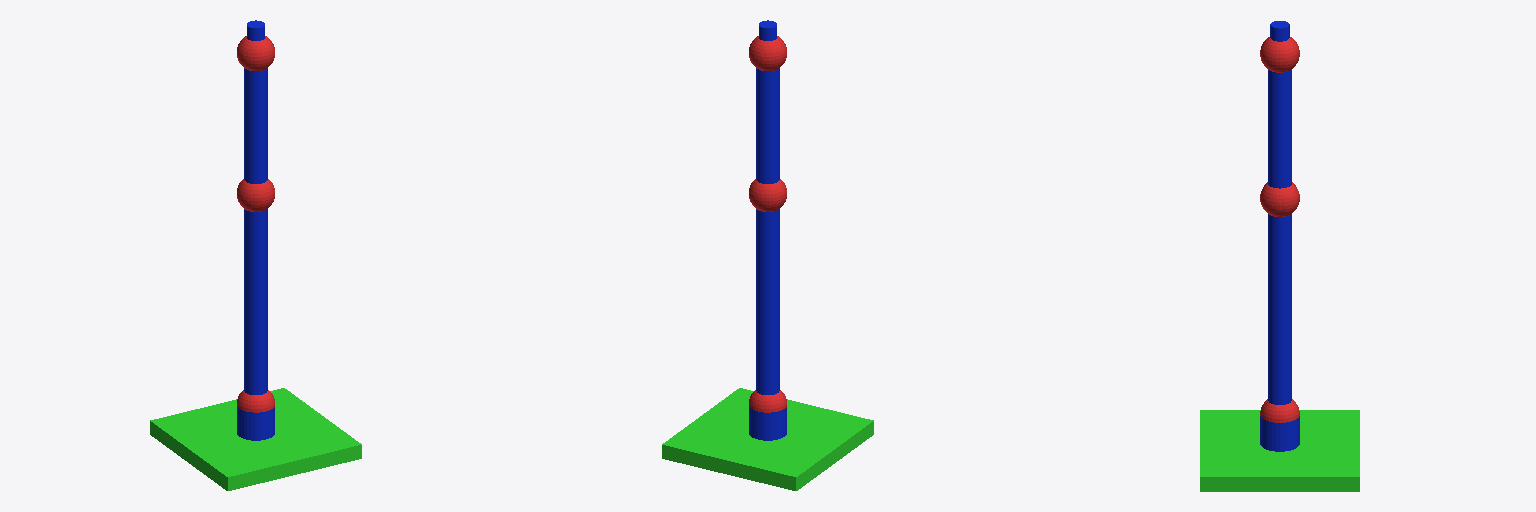
robot.urdf — simple_arm:
<?xml version="1.0"?>
<robot name="simple_arm">
<!-- Sensowny model ramienia -->
    <!-- BAZA: 200 x 200 x 20 mm -->
    <link name="baza">
        <visual>
            <origin xyz="0 0 0"/>
            <geometry>
                <box size="0.2 0.2 0.02"/>
            </geometry>
            <material name="green">
                <color rgba="0.23 0.875 0.23 1"/>
            </material>
        </visual>
        <collision>
            <origin xyz="0 0 0"/>
            <geometry>
                <box size="0.2 0.2 0.02"/>
            </geometry>
        </collision>
        <inertial>
            <origin xyz="0 0 0"/>
            <mass value="5"/>
            <inertia ixx="0.0167" ixy="0" ixz="0"
                     iyy="0.0167" iyz="0" izz="0.0333"/>
        </inertial>
    </link>

    <!-- CYLINDER 0: PRZEGUB OBROTOWY PODSTAWY -->
    <!-- Cylinder ustawiony pionowo, długość 40 mm -->
    <link name="cylinder_base">
        <visual>
            <origin xyz="0 0 0"/>
            <geometry>
                <cylinder radius="0.025" length="0.04"/>
            </geometry>
            <material name="blue">
                <color rgba="0.1 0.23 0.875 1"/>
            </material>
        </visual>
        <collision>
            <origin xyz="0 0 0"/>
            <geometry>
                <cylinder radius="0.025" length="0.04"/>
            </geometry>
        </collision>
        <inertial>
            <origin xyz="0 0 0"/>
            <mass value="0.3"/>
            <inertia ixx="0.0001" ixy="0" ixz="0"
                     iyy="0.0001" iyz="0" izz="0.000094"/>
        </inertial>
    </link>

    <!-- SFERA 1: PRZEGUB BARKOWY -->
    <link name="sfera1">
        <visual>
            <geometry>
                <sphere radius="0.025"/>
            </geometry>
            <material name="red">
                <color rgba="0.875 0.23 0.23 1"/>
            </material>
        </visual>
        <collision>
            <geometry>
                <sphere radius="0.025"/>
            </geometry>
        </collision>
        <inertial>
            <origin xyz="0 0 0"/>
            <mass value="0.2"/>
            <inertia ixx="0.00005" ixy="0" ixz="0"
                     iyy="0.00005" iyz="0" izz="0.00005"/>
        </inertial>
    </link>

    <!-- WALEC 1: RAMIĘ 300 mm -->
    <link name="walec1">
        <visual>
            <origin xyz="0 0 0.15"/>
            <geometry>
                <cylinder radius="0.015" length="0.3"/>
            </geometry>
            <material name="blue">
                <color rgba="0.1 0.23 0.875 1"/>
            </material>
        </visual>
        <collision>
            <origin xyz="0 0 0.15"/>
            <geometry>
                <cylinder radius="0.015" length="0.3"/>
            </geometry>
        </collision>
        <inertial>
            <origin xyz="0 0 0.15"/>
            <mass value="0.5"/>
            <inertia ixx="0.00377" ixy="0" ixz="0"
                     iyy="0.00377" iyz="0" izz="0.0000563"/>
        </inertial>
    </link>

    <!-- SFERA 2: PRZEGUB ŁOKCIOWY -->
    <link name="sfera2">
        <visual>
            <geometry>
                <sphere radius="0.025"/>
            </geometry>
            <material name="red">
                <color rgba="0.875 0.23 0.23 1"/>
            </material>
        </visual>
        <collision>
            <geometry>
                <sphere radius="0.025"/>
            </geometry>
        </collision>
        <inertial>
            <origin xyz="0 0 0"/>
            <mass value="0.2"/>
            <inertia ixx="0.00005" ixy="0" ixz="0"
                     iyy="0.00005" iyz="0" izz="0.00005"/>
        </inertial>
    </link>

    <!-- WALEC 2: RAMIĘ 200 mm -->
    <link name="walec2">
        <visual>
            <origin xyz="0 0 0.1"/>
            <geometry>
                <cylinder radius="0.015" length="0.2"/>
            </geometry>
            <material name="blue">
                <color rgba="0.1 0.23 0.875 1"/>
            </material>
        </visual>
        <collision>
            <origin xyz="0 0 0.1"/>
            <geometry>
                <cylinder radius="0.015" length="0.2"/>
            </geometry>
        </collision>
        <inertial>
            <origin xyz="0 0 0.1"/>
            <mass value="0.35"/>
            <inertia ixx="0.00118" ixy="0" ixz="0"
                     iyy="0.00118" iyz="0" izz="0.0000394"/>
        </inertial>
    </link>

    <!-- SFERA 3: KONIEC RAMIENIA -->
    <link name="sfera3">
        <visual>
            <geometry>
                <sphere radius="0.025"/>
            </geometry>
            <material name="red">
                <color rgba="0.875 0.23 0.23 1"/>
            </material>
        </visual>
        <collision>
            <geometry>
                <sphere radius="0.025"/>
            </geometry>
        </collision>
        <inertial>
            <origin xyz="0 0 0"/>
            <mass value="0.2"/>
            <inertia ixx="0.00005" ixy="0" ixz="0"
                     iyy="0.00005" iyz="0" izz="0.00005"/>
        </inertial>
    </link>

    <!-- WALEC 3: MOCOWANIE EFEKTORA, 40 mm -->
    <link name="walec3">
        <visual>
            <origin xyz="0 0 0.02"/>
            <geometry>
                <cylinder radius="0.012" length="0.04"/>
            </geometry>
            <material name="blue">
                <color rgba="0.1 0.23 0.875 1"/>
            </material>
        </visual>
        <collision>
            <origin xyz="0 0 0.02"/>
            <geometry>
                <cylinder radius="0.012" length="0.04"/>
            </geometry>
        </collision>
        <inertial>
            <origin xyz="0 0 0.02"/>
            <mass value="0.1"/>
            <inertia ixx="0.0000141" ixy="0" ixz="0"
                     iyy="0.0000141" iyz="0" izz="0.0000072"/>
        </inertial>
    </link>

    <!-- POŁĄCZENIA -->

    <!-- Baza -> cylinder -->
    <joint name="baza_cylinder" type="fixed">
        <parent link="baza"/>
        <child link="cylinder_base"/>
        <origin xyz="0 0 0.03" rpy="0 0 0"/>
    </joint>

    <!-- Cylinder -> sfera 1: obrót wokół osi Z -->
    <joint name="cylinder_sfera1" type="revolute">
        <parent link="cylinder_base"/>
        <child link="sfera1"/>
        <origin xyz="0 0 0.02" rpy="0 0 0"/>
        <axis xyz="0 0 1"/>
        <limit lower="-1.4" upper="1.4"
               effort="30" velocity="1.0"/>
    </joint>

    <!-- Bark: obrót wokół osi Y -->
    <joint name="sfera1_walec1" type="revolute">
        <parent link="sfera1"/>
        <child link="walec1"/>
        <origin xyz="0 0 0" rpy="0 0 0"/>
        <axis xyz="0 1 0"/>
        <limit lower="-1.4" upper="1.4"
               effort="30" velocity="1.0"/>
    </joint>

    <!-- Koniec pierwszego ramienia: 300 mm -->
    <joint name="walec1_sfera2" type="fixed">
        <parent link="walec1"/>
        <child link="sfera2"/>
        <origin xyz="0 0 0.3" rpy="0 0 0"/>
    </joint>

    <!-- Łokieć: obrót wokół osi Y -->
    <joint name="sfera2_walec2" type="revolute">
        <parent link="sfera2"/>
        <child link="walec2"/>
        <origin xyz="0 0 0" rpy="0 0 0"/>
        <axis xyz="0 1 0"/>
        <limit lower="-2.0944" upper="0"
               effort="20" velocity="1.0"/>
    </joint>

    <!-- Koniec drugiego ramienia: 200 mm -->
    <joint name="walec2_sfera3" type="fixed">
        <parent link="walec2"/>
        <child link="sfera3"/>
        <origin xyz="0 0 0.2" rpy="0 0 0"/>
    </joint>

    <!-- Mocowanie efektora -->
    <joint name="sfera3_walec3" type="fixed">
        <parent link="sfera3"/>
        <child link="walec3"/>
        <origin xyz="0 0 0" rpy="0 0 0"/>
    </joint>

</robot>

--- Render facts (derived) ---
Views: 3 orthographic renders of the robot side by side, from view 1: azimuth 30°, elevation 25°; view 2: azimuth 150°, elevation 25°; view 3: azimuth 270°, elevation 25°.
Robot: simple_arm — 8 links, 7 joints (3 revolute, 4 fixed); root link baza; default pose: every joint at zero.
Links seen in each view (by area): view 1: baza, walec1, walec2, cylinder_base, sfera3, sfera2, sfera1; view 2: baza, walec1, walec2, cylinder_base, sfera3, sfera2, sfera1; view 3: baza, walec1, walec2, cylinder_base, sfera3, sfera2, sfera1.
Link boxes in pixels (left/top/right/bottom): baza: left=150, top=388, right=361, bottom=490; walec1: left=244, top=209, right=267, bottom=394; walec2: left=244, top=68, right=267, bottom=183; cylinder_base: left=237, top=407, right=274, bottom=440; sfera3: left=237, top=36, right=274, bottom=70; sfera2: left=237, top=179, right=274, bottom=211; sfera1: left=237, top=390, right=274, bottom=412; baza: left=662, top=388, right=873, bottom=490; walec1: left=756, top=209, right=779, bottom=394; walec2: left=756, top=68, right=779, bottom=183; cylinder_base: left=749, top=407, right=786, bottom=440; sfera3: left=749, top=36, right=786, bottom=70; sfera2: left=749, top=179, right=786, bottom=211; sfera1: left=749, top=390, right=786, bottom=412; baza: left=1200, top=410, right=1359, bottom=491; walec1: left=1268, top=214, right=1291, bottom=404; walec2: left=1268, top=70, right=1291, bottom=188; cylinder_base: left=1260, top=416, right=1299, bottom=451; sfera3: left=1260, top=37, right=1299, bottom=72; sfera2: left=1260, top=182, right=1299, bottom=216; sfera1: left=1260, top=399, right=1299, bottom=422.
Size in the robot's own frame: 0.2 by 0.2 by 0.6 metres.
Geometry: primitives only (box / cylinder / sphere), no mesh files.
